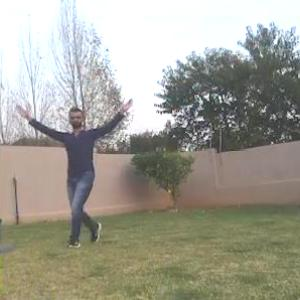takeoff: (18, 95, 133, 250)
